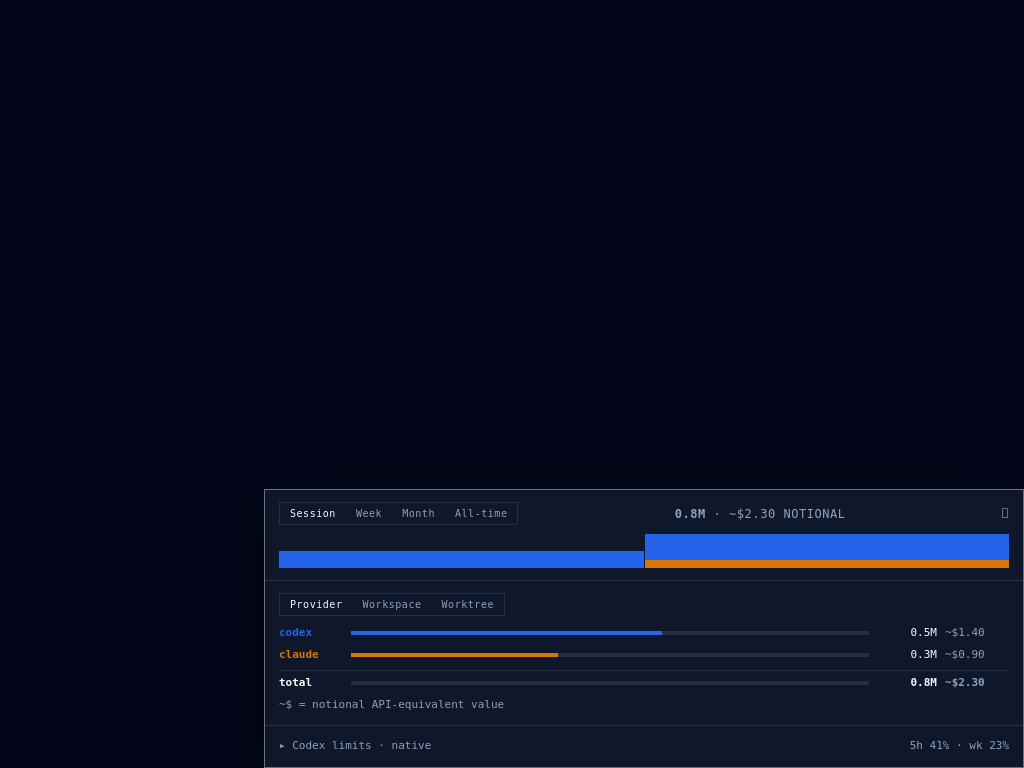
UsagePopover › switching the breakdown to Workspace shows the worktree tree
(page scrolled)
Click the button "Workspace" at (392, 604), box [352,594,432,615]
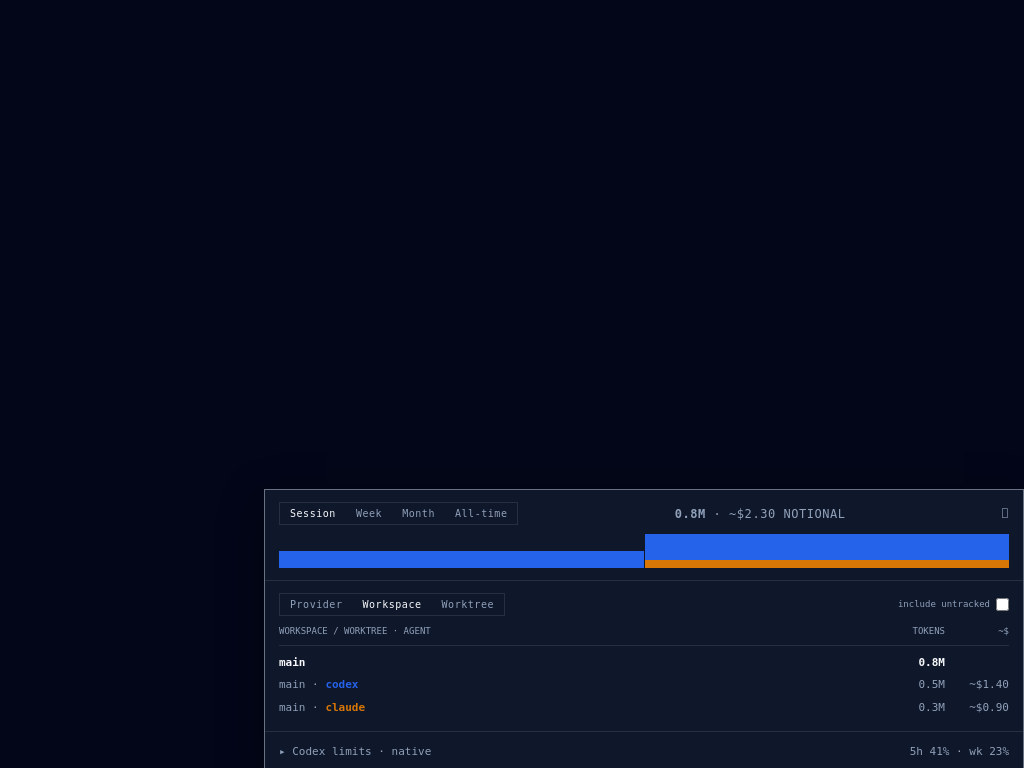
Check: the cell with class "usage-wt" shows "main", box [279,678,306,691]
